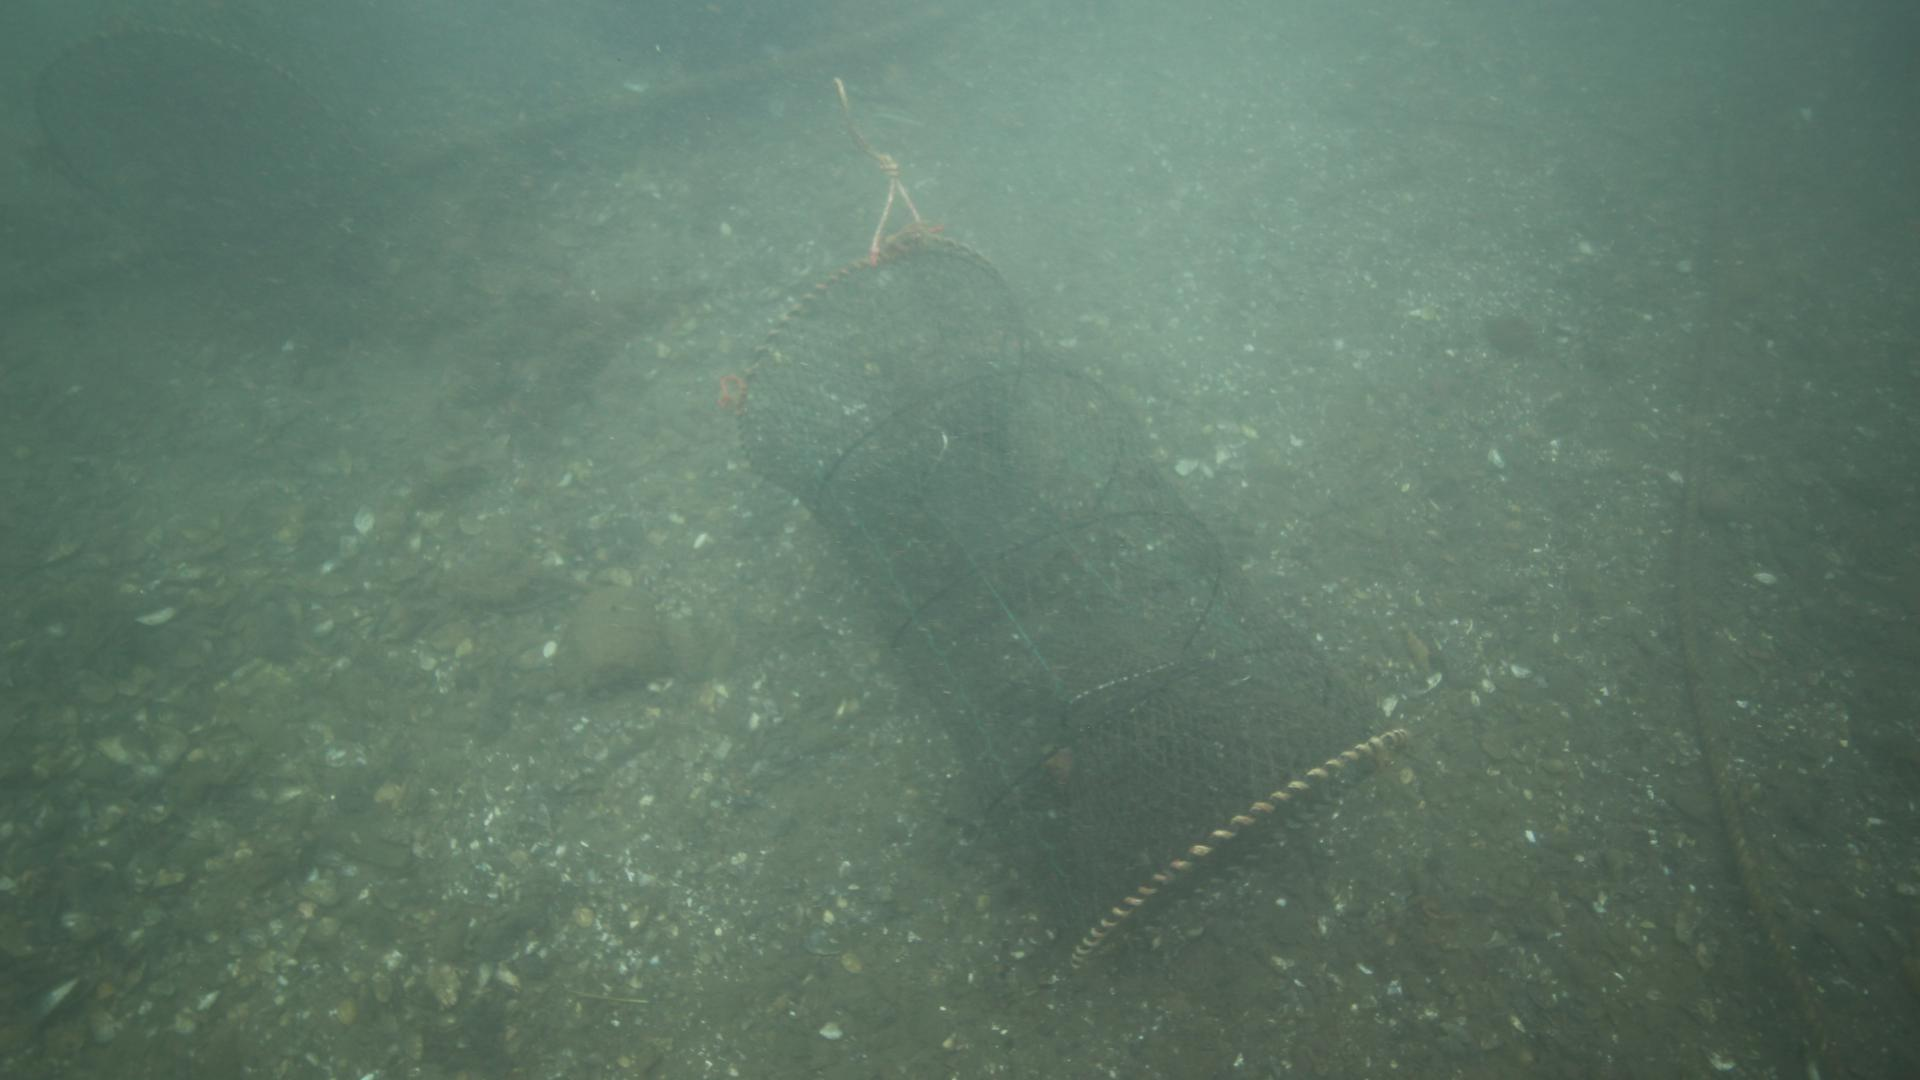bundle of ropes: (827, 65, 927, 262)
spring fish trap: (729, 235, 1414, 975)
